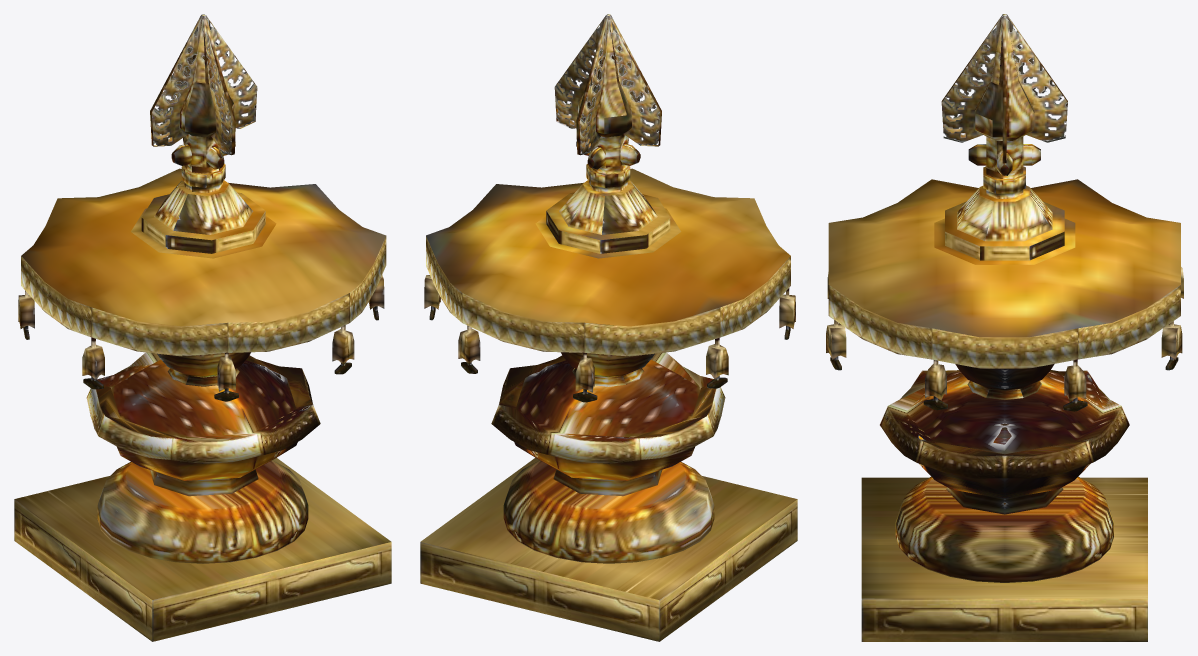
Rendered from JapaneseBrassPinacle.fbx.
3 renders of one model, left to right at view 1: azimuth 30°, elevation 25°; view 2: azimuth 150°, elevation 25°; view 3: azimuth 270°, elevation 25°, orthographic. The views are drawn at different scales.
Visible parts, largest first — view 1: default; view 2: default; view 3: default.
Boxes of the visible parts, x1=… form: default: x1=14, y1=14, x2=391, y2=641; default: x1=420, y1=14, x2=797, y2=641; default: x1=826, y1=14, x2=1183, y2=641.
Size of the model in its own units: 1332 by 2294 by 1313.
